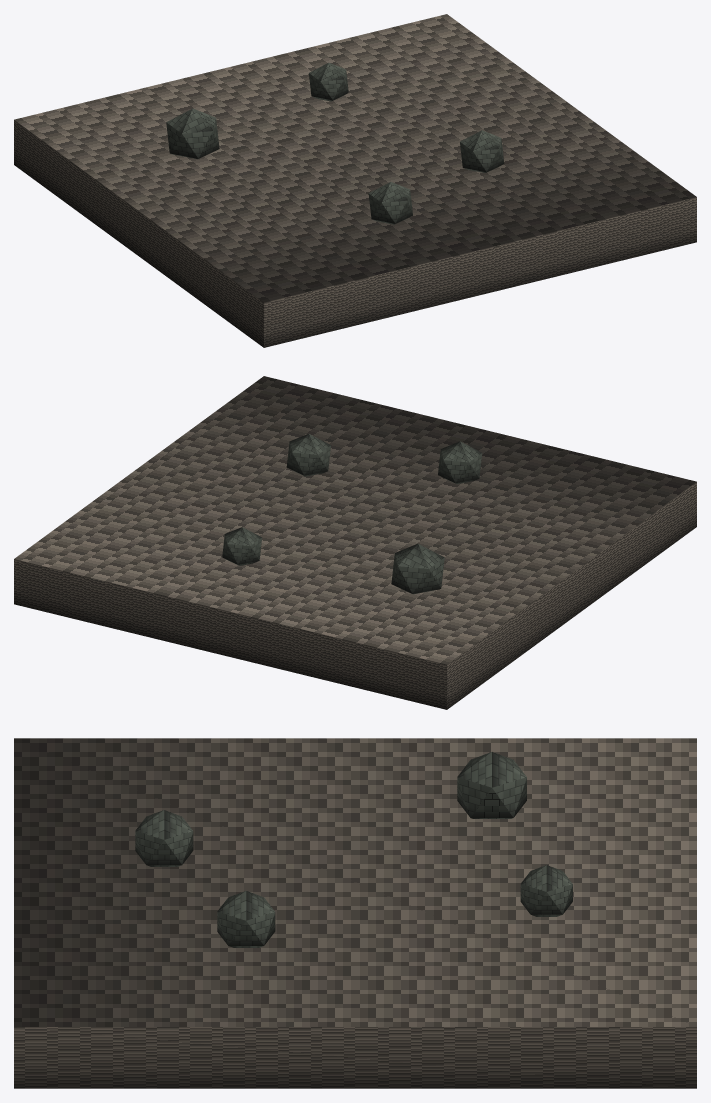
The model's file is ground_gravel.gltf.
3 renders of one model, top to bottom at view 1: azimuth 30°, elevation 25°; view 2: azimuth 150°, elevation 25°; view 3: azimuth 270°, elevation 25°, orthographic. The views are drawn at different scales.
Parts seen in each view (by area): view 1: ground_gravel; view 2: ground_gravel; view 3: ground_gravel.
Part boxes in pixels (<box>): ground_gravel: <box>14,14,696,347</box>; ground_gravel: <box>14,376,696,709</box>; ground_gravel: <box>14,738,696,1088</box>.
Bounding box in the file's own units: 1 × 0.19 × 1.
Materials: 1 (1 with a texture image).
